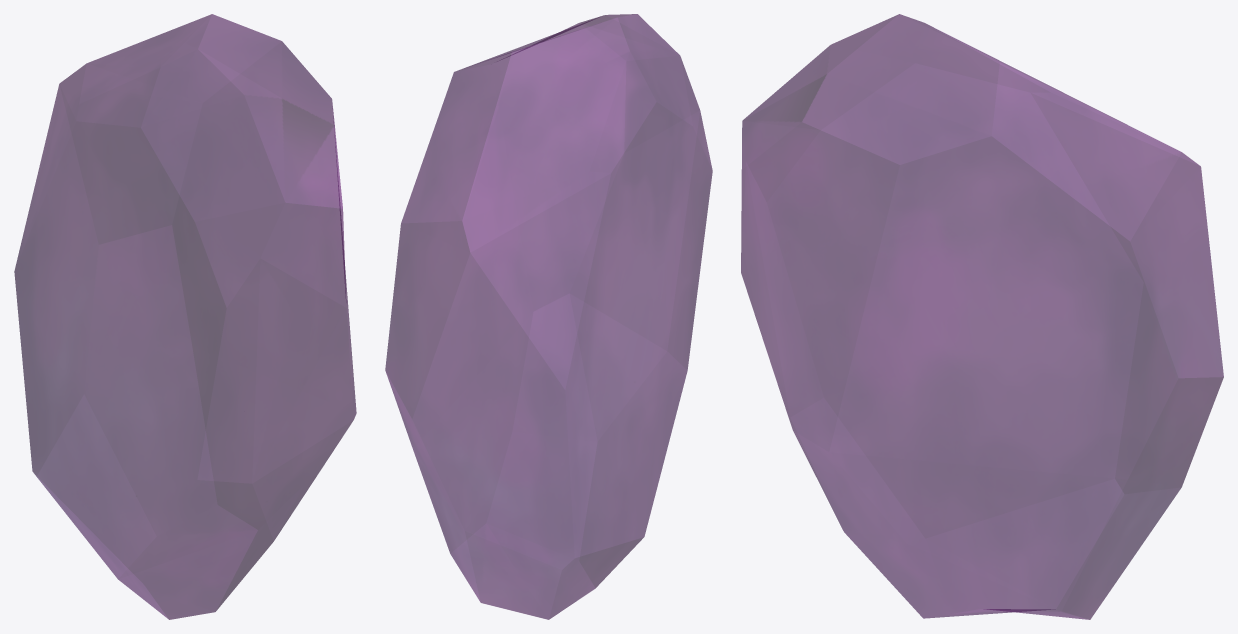
File: stone-collider.fbx
3 views of the same model, side by side, from view 1: azimuth 30°, elevation 25°; view 2: azimuth 150°, elevation 25°; view 3: azimuth 270°, elevation 25° (orthographic). The views are drawn at different scales.
Parts seen in each view (by area): view 1: StoneCollider; view 2: StoneCollider; view 3: StoneCollider.
Boxes of the visible parts, x1=… form: StoneCollider: x1=14, y1=14, x2=356, y2=619; StoneCollider: x1=385, y1=14, x2=712, y2=619; StoneCollider: x1=741, y1=14, x2=1223, y2=619.
Size of the model in its own units: 203 by 575 by 419.
